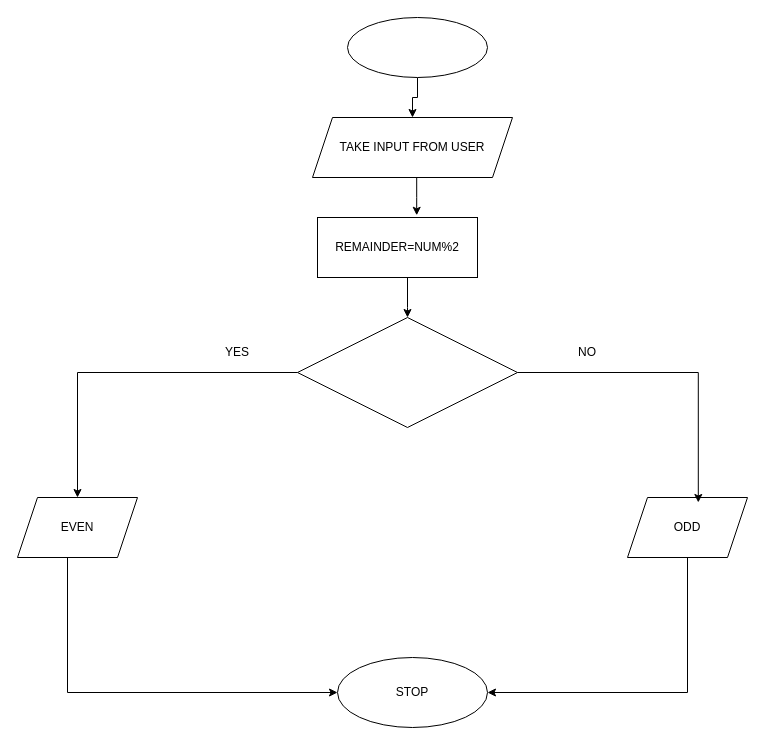
This 765x745 diagram has some shape labels left out. Here are the shapes that lost their labels. From the top down, the centre of each, then its label:
pixel 417 47: START
pixel 407 372: REMAINDER=0
